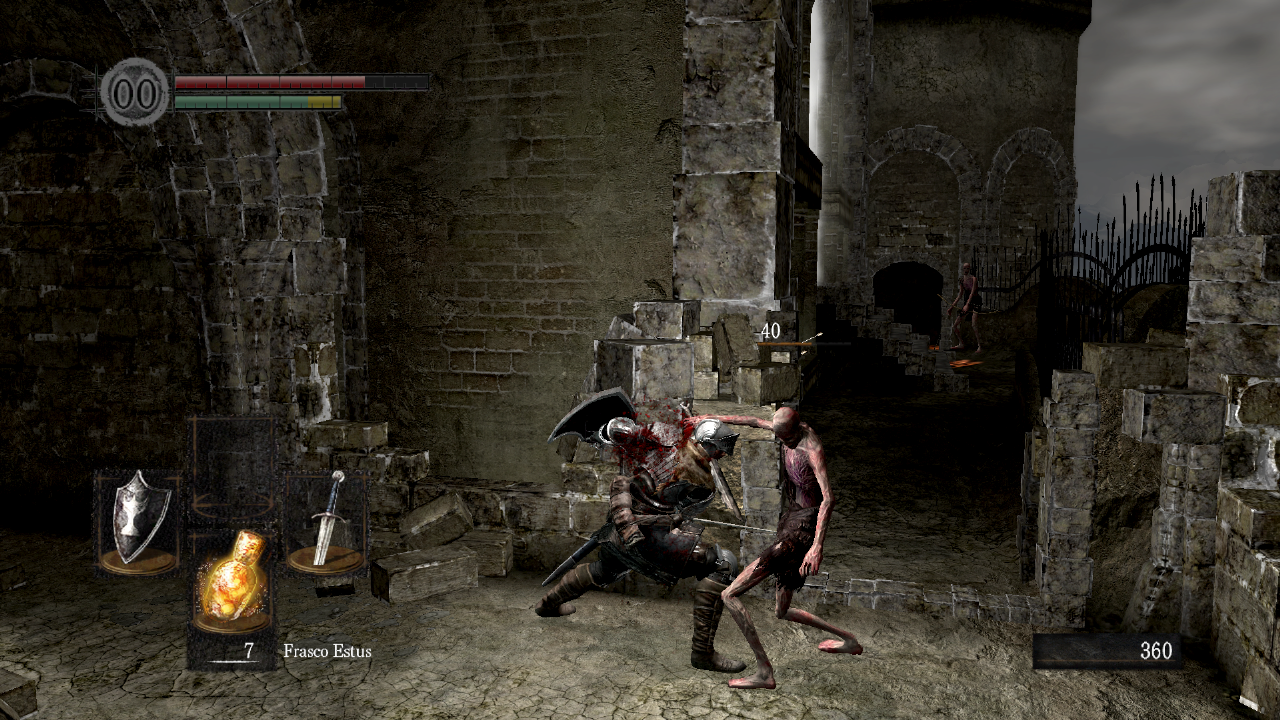hollow: (678, 400, 864, 690), (937, 262, 1000, 354)
player: (535, 385, 778, 673)
